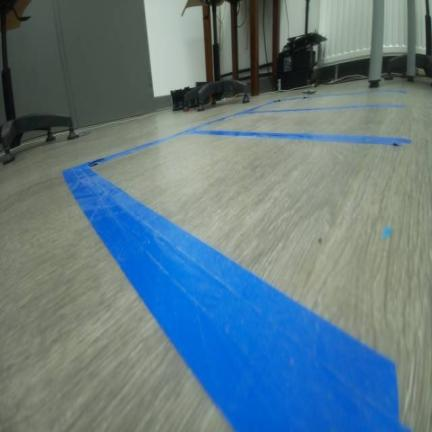place: (58, 126, 415, 431), (185, 103, 410, 148), (243, 87, 407, 113)
